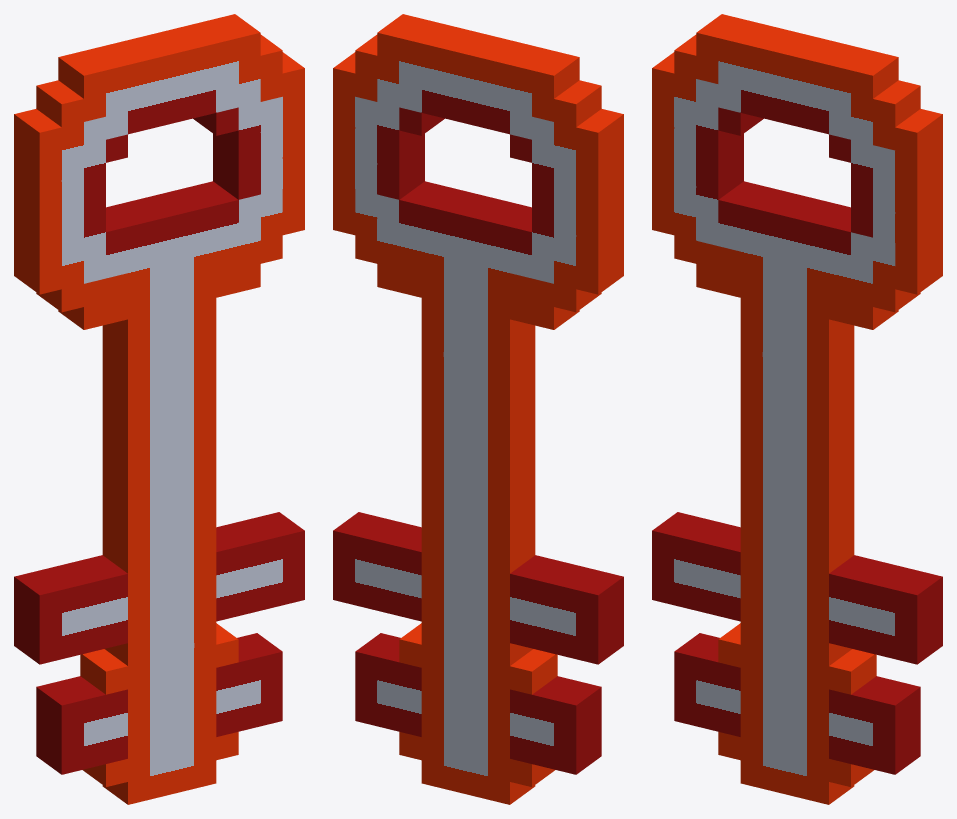
The model's file is pixel_key.glb.
The picture shows the model from 3 angles, left to right: view 1: azimuth 30°, elevation 25°; view 2: azimuth 150°, elevation 25°; view 3: azimuth 330°, elevation 25°; orthographic projection.
Parts seen in each view (by area): view 1: Object_4; view 2: Object_4; view 3: Object_4.
Boxes of the visible parts, bbox=[...] form: Object_4: bbox=[14, 14, 304, 804]; Object_4: bbox=[333, 14, 623, 804]; Object_4: bbox=[652, 14, 942, 804].
Size of the model in its own units: 12 by 32 by 2.
Materials: 1 (1 with a texture image).
